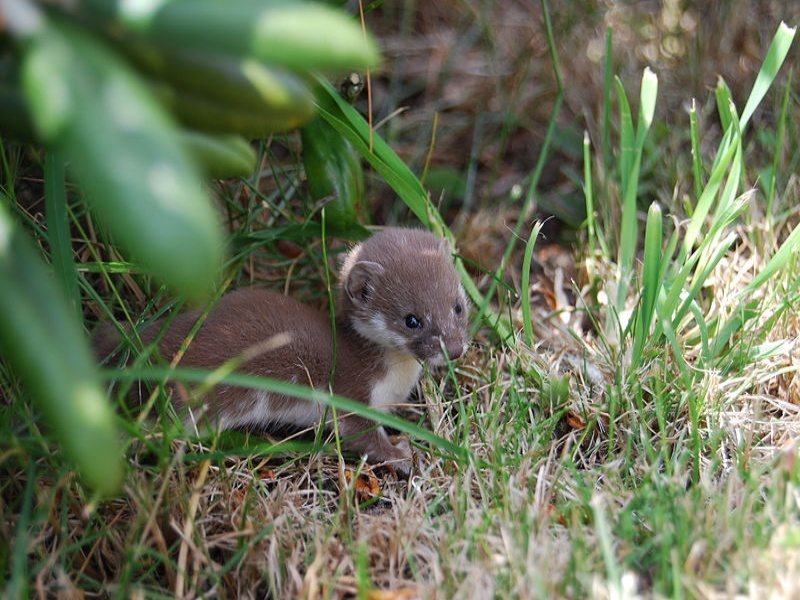minkish: (72, 216, 478, 479)
